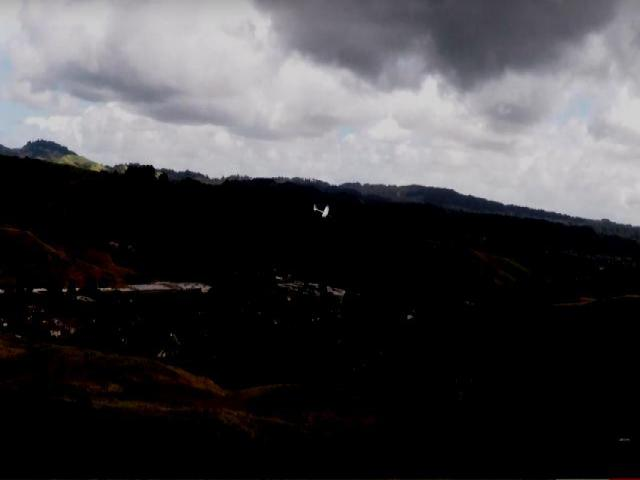iha: (312, 203, 334, 220)
